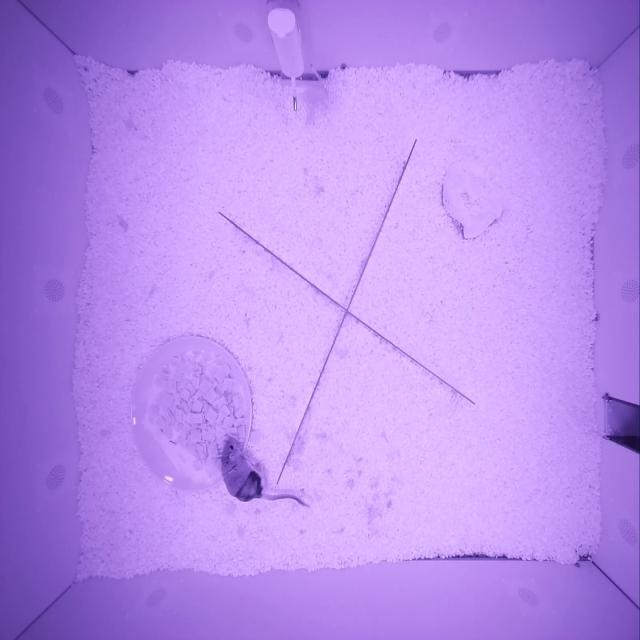adult_back: (220, 440, 265, 501)
